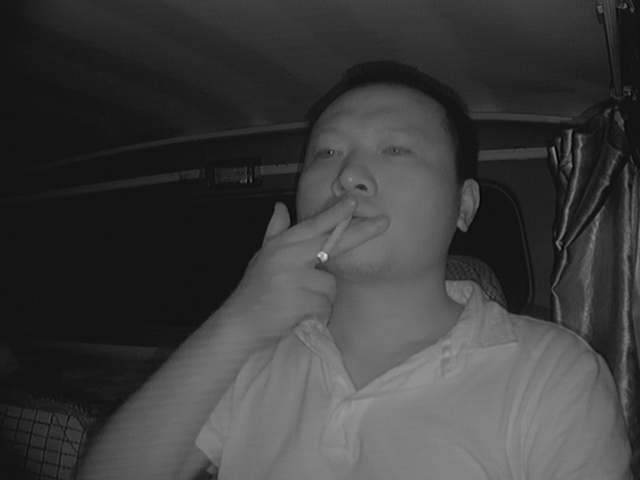hand: (246, 188, 392, 337)
